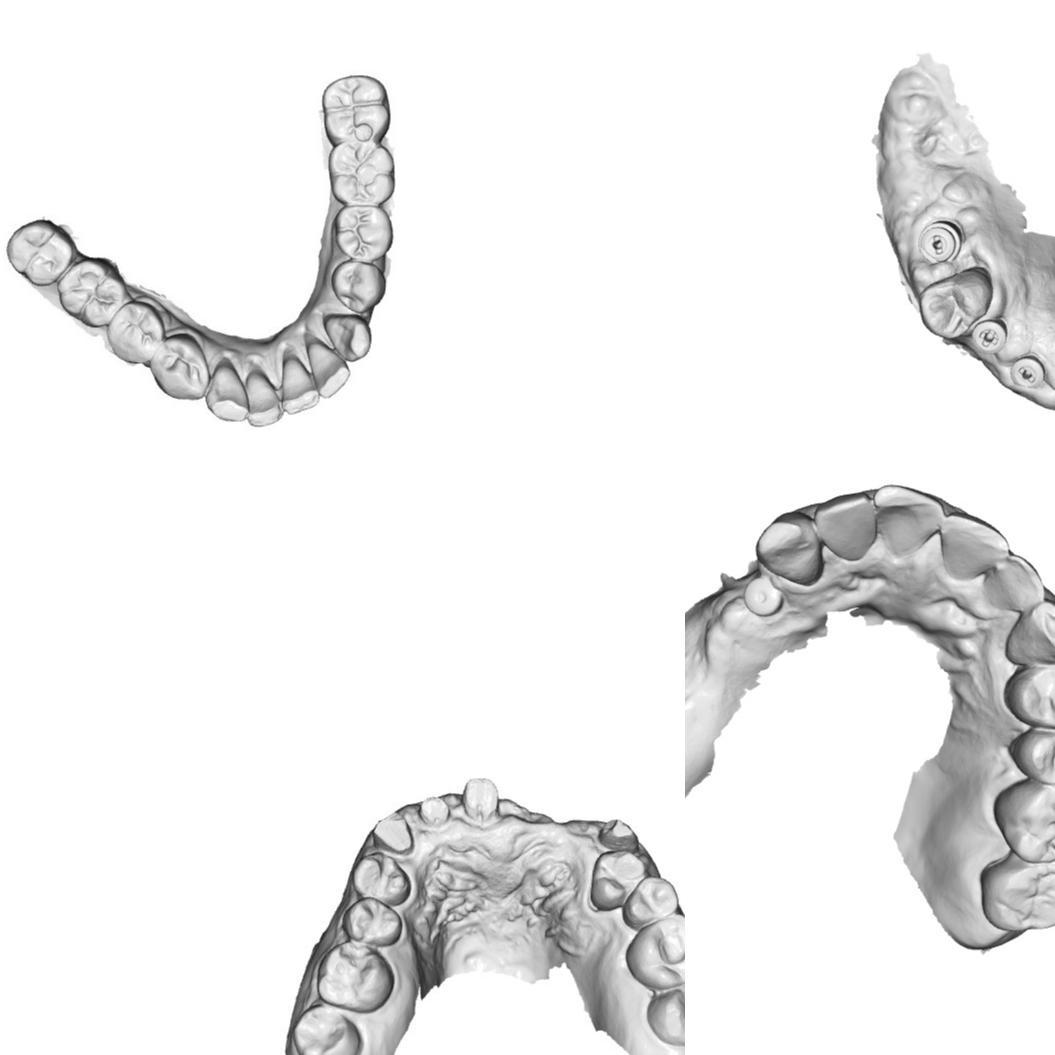canine: (757, 511, 827, 586), (1000, 597, 1055, 668), (205, 360, 250, 424), (324, 312, 374, 360)
crown: (462, 775, 498, 818), (595, 815, 637, 851), (413, 785, 448, 826), (376, 817, 416, 851)
implant: (742, 574, 785, 618)
implant_minus: (920, 222, 960, 262), (1009, 356, 1044, 388)
implant_plus: (972, 317, 1008, 356)
incisor: (868, 476, 944, 563), (814, 490, 882, 567), (940, 510, 1012, 577), (985, 552, 1048, 610), (308, 344, 350, 396), (243, 366, 281, 423), (283, 349, 319, 408)
molar: (979, 857, 1055, 933), (990, 780, 1055, 863), (318, 942, 397, 1010), (326, 74, 389, 147), (629, 911, 685, 989), (330, 142, 396, 205), (6, 220, 70, 283), (59, 263, 123, 325), (295, 1006, 366, 1055), (643, 982, 685, 1049)
premolar: (918, 264, 993, 340), (151, 329, 205, 403), (1002, 662, 1055, 730), (620, 874, 685, 926), (587, 848, 643, 908), (354, 848, 409, 908), (335, 206, 389, 261), (107, 306, 160, 362), (1008, 725, 1055, 786), (345, 898, 403, 945), (334, 261, 383, 311)
